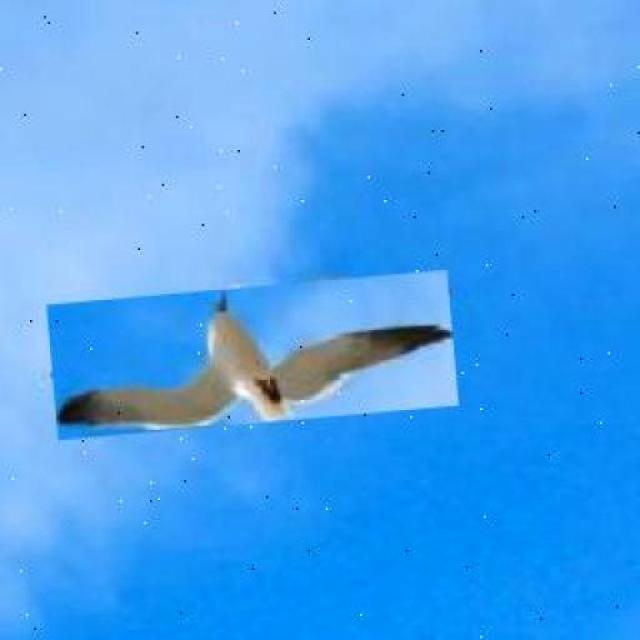airplane: (46, 269, 458, 439)
